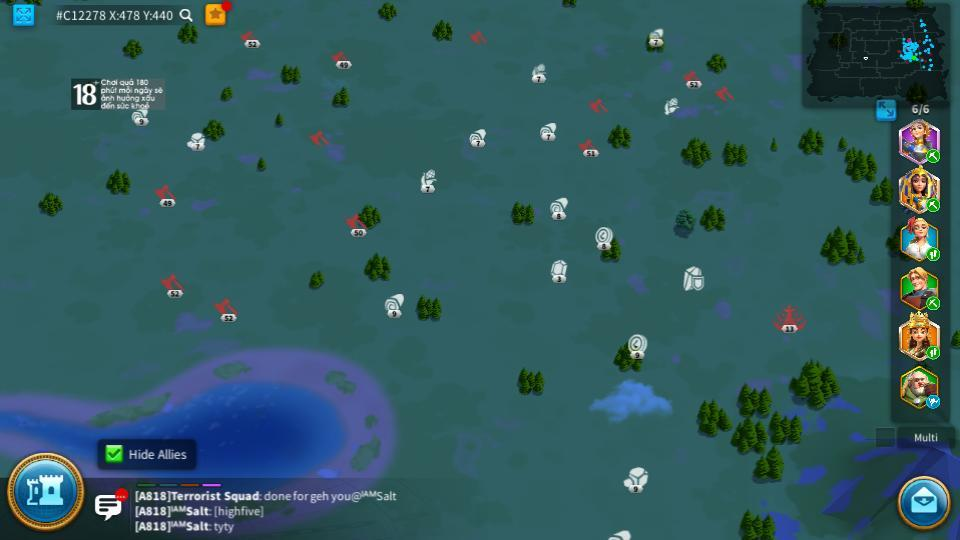gem-z-out: (548, 259, 568, 282)
march_farming: (925, 197, 941, 212)
march_idle: (925, 396, 942, 408)
march_marching: (925, 347, 941, 359), (925, 150, 941, 162), (925, 297, 942, 308)
